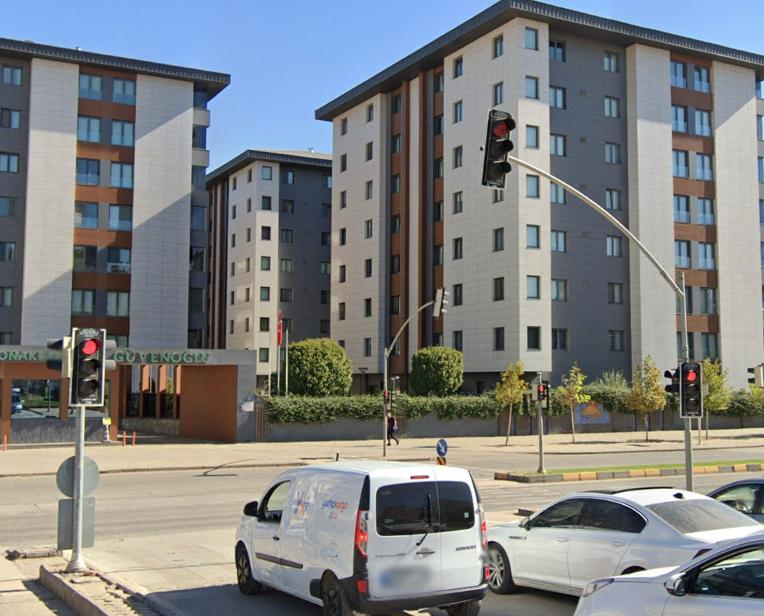redlight: (74, 332, 103, 406), (488, 110, 514, 181), (680, 362, 701, 411)
